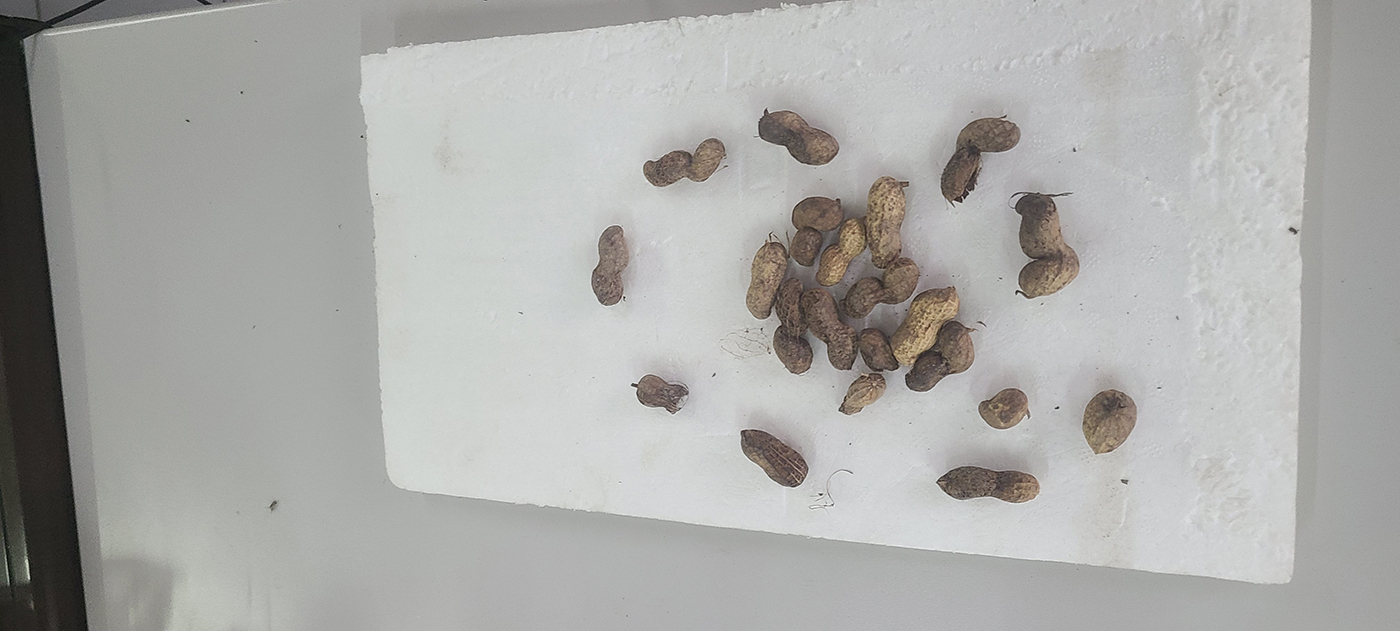l: (1014, 194, 1081, 298), (940, 117, 1020, 203), (904, 321, 977, 392), (892, 287, 959, 364), (759, 109, 839, 166), (843, 259, 919, 318), (801, 289, 857, 369), (643, 139, 727, 187), (740, 429, 808, 487), (773, 278, 812, 374), (938, 465, 1039, 502), (865, 178, 906, 268), (1082, 389, 1137, 454), (817, 218, 865, 287), (746, 241, 786, 320), (591, 225, 628, 306), (637, 373, 687, 414), (838, 373, 886, 415), (979, 389, 1026, 430), (792, 196, 843, 230), (859, 328, 899, 371), (790, 229, 821, 264)
